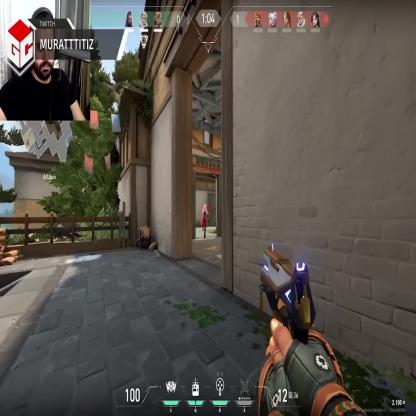enemy: (201, 203, 209, 240)
enemy_head: (204, 204, 206, 210)
